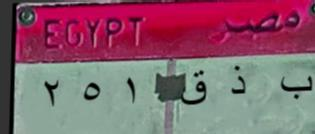1: (115, 74, 145, 108)
2: (36, 77, 68, 112)
5: (76, 79, 108, 106)
baa: (278, 69, 315, 105)
qaaf: (183, 68, 213, 113)
zaal: (221, 62, 251, 105)
